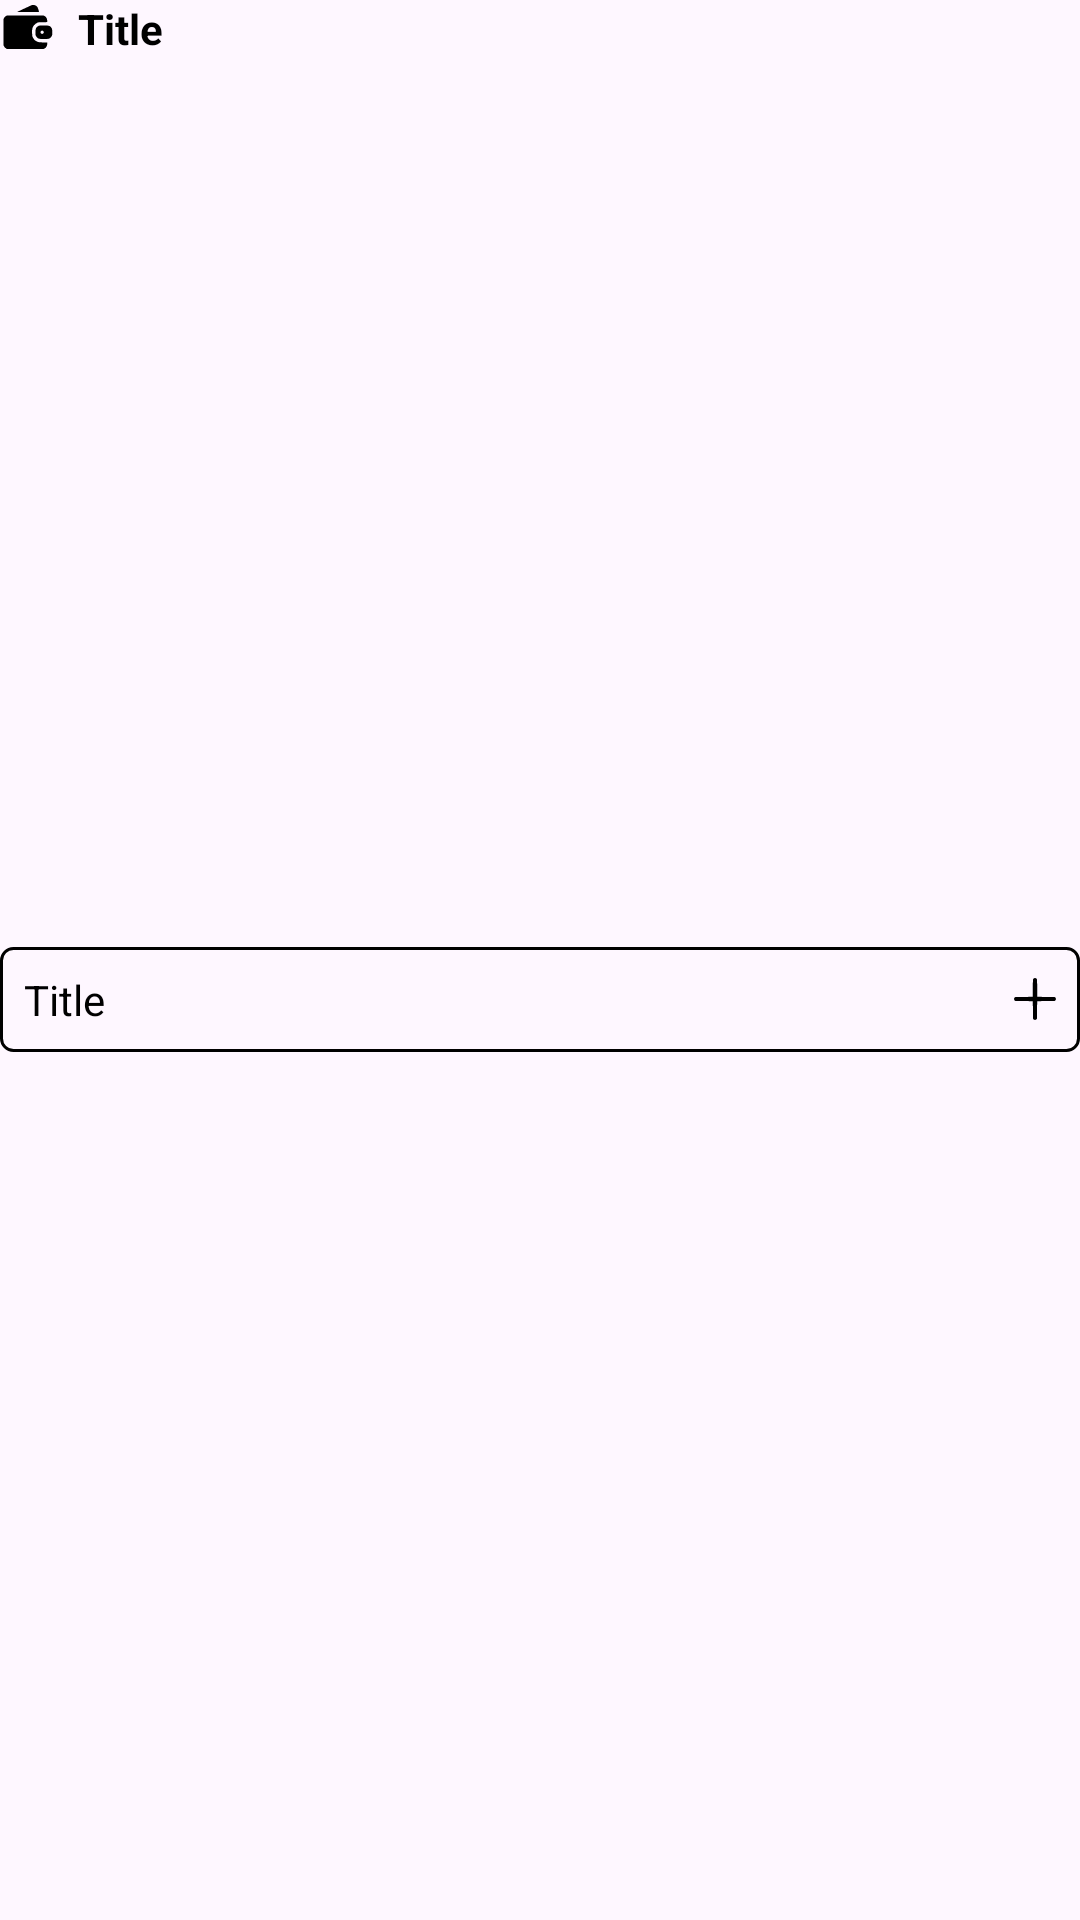

Icons on this 1080 x 1920 Android screen, each with its box as (x1, y1, x2, y2):
plus: (1014, 978, 1056, 1020)
wallet: (3, 5, 53, 49)
